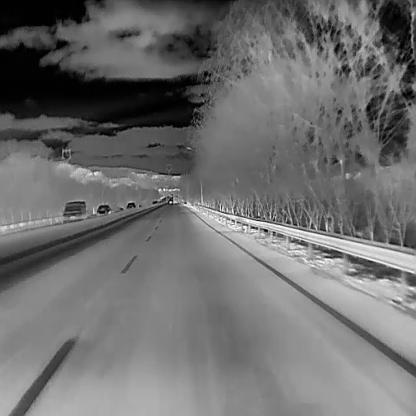bus: (172, 196, 178, 203)
car: (62, 199, 86, 223), (96, 202, 112, 217), (125, 200, 136, 210), (151, 199, 157, 203), (168, 200, 172, 204)
